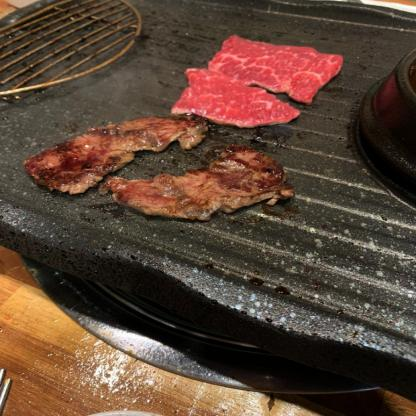Carne: (17, 111, 205, 195), (113, 147, 296, 217)
